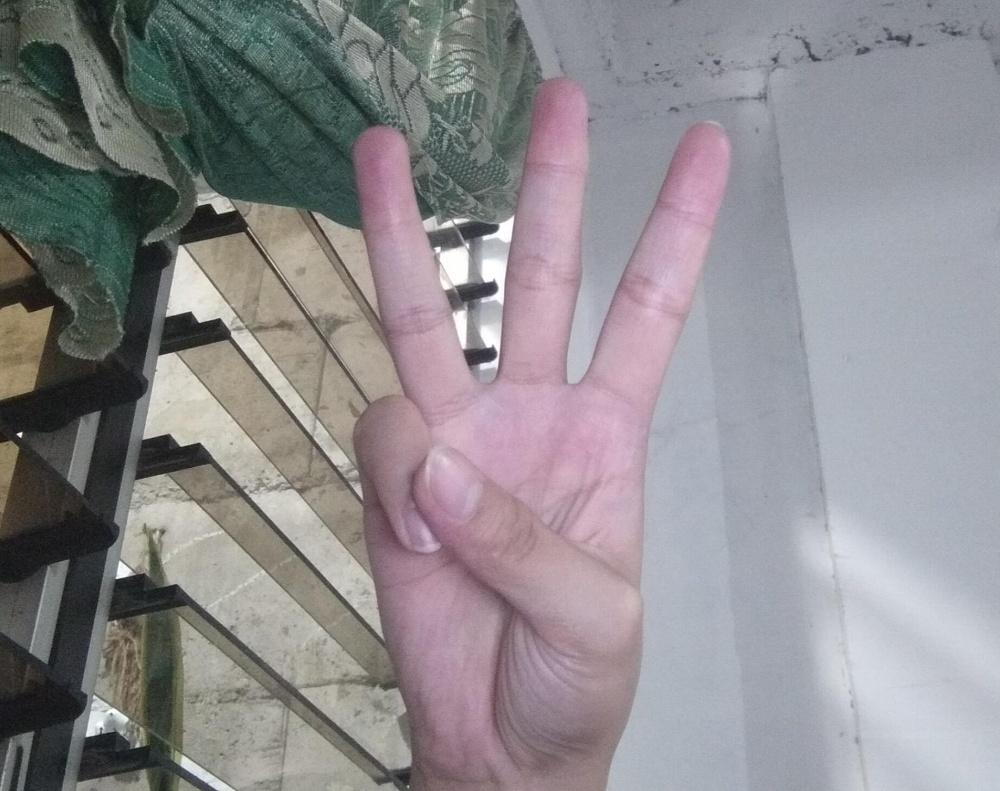w: (351, 74, 732, 760)
